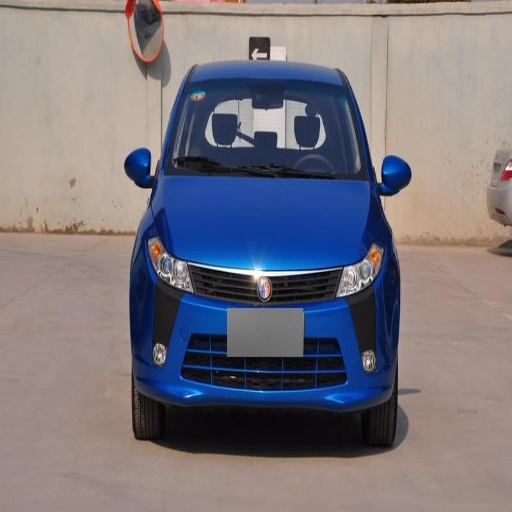front_bumper: (135, 262, 394, 411)
front_right_light: (147, 238, 193, 292)
hood: (156, 175, 371, 270)
left_mirror: (379, 155, 413, 197)
